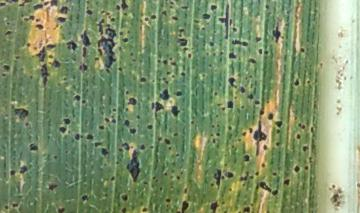tarspot: (95, 17, 118, 75), (123, 149, 144, 184), (252, 117, 267, 158), (218, 1, 231, 42), (11, 106, 31, 120), (271, 21, 282, 44), (212, 167, 223, 190), (39, 63, 49, 87), (79, 27, 90, 48), (177, 198, 192, 213), (259, 179, 272, 194), (230, 38, 250, 47), (158, 87, 170, 102), (170, 103, 182, 117), (37, 45, 46, 63), (174, 36, 190, 46), (127, 95, 139, 108), (65, 40, 78, 52), (208, 199, 219, 213), (227, 76, 237, 90), (17, 1, 32, 10), (225, 98, 237, 109), (77, 62, 88, 74), (292, 76, 302, 89), (22, 14, 36, 23), (119, 192, 130, 203), (46, 181, 57, 192), (292, 162, 302, 174), (227, 51, 239, 61), (119, 1, 131, 11), (79, 191, 88, 204), (155, 100, 162, 116), (223, 170, 234, 180), (99, 147, 110, 157), (28, 143, 39, 153), (56, 15, 67, 25), (282, 178, 292, 188), (73, 132, 83, 142), (62, 116, 72, 126), (18, 165, 28, 175), (242, 153, 251, 164), (85, 6, 94, 17), (120, 143, 132, 151), (1, 63, 13, 71), (32, 3, 44, 11), (47, 1, 60, 8), (241, 204, 251, 213), (294, 131, 302, 142), (246, 57, 257, 65), (274, 119, 282, 130), (173, 90, 184, 98), (2, 29, 13, 37), (80, 46, 87, 58), (254, 35, 263, 44), (231, 25, 240, 34), (128, 127, 137, 136), (300, 143, 308, 153), (139, 205, 149, 213), (60, 5, 68, 15), (52, 58, 60, 68), (46, 42, 56, 50), (35, 23, 45, 31), (201, 12, 212, 19), (118, 206, 129, 213), (55, 206, 66, 213), (210, 4, 218, 13), (238, 86, 247, 94), (266, 112, 274, 121), (139, 77, 148, 85), (145, 123, 154, 131), (97, 123, 105, 132), (108, 175, 117, 183), (171, 14, 179, 23), (257, 47, 264, 57), (123, 119, 133, 126), (9, 168, 16, 178), (149, 12, 156, 22), (13, 54, 23, 61), (179, 5, 190, 11), (271, 189, 279, 197), (58, 126, 66, 134), (73, 94, 81, 102), (2, 203, 10, 211), (110, 106, 118, 114), (179, 70, 187, 78), (199, 25, 207, 33), (254, 99, 261, 108), (85, 133, 94, 140), (23, 120, 30, 129), (108, 16, 117, 23), (103, 116, 110, 125), (120, 36, 129, 43), (160, 8, 167, 17), (211, 90, 220, 97), (309, 125, 315, 135), (301, 122, 307, 132), (262, 143, 268, 153), (10, 201, 20, 207), (238, 176, 248, 182), (152, 174, 158, 184), (298, 46, 305, 54), (164, 197, 172, 204), (178, 27, 186, 34), (271, 170, 278, 178), (226, 123, 233, 131), (169, 60, 177, 67), (139, 143, 146, 151), (172, 151, 180, 158), (130, 57, 138, 64), (128, 51, 136, 58), (192, 17, 199, 25), (186, 51, 192, 60), (247, 126, 253, 135), (263, 49, 270, 56), (247, 93, 254, 100), (208, 41, 215, 48), (1, 72, 8, 79), (214, 112, 221, 119), (254, 183, 261, 190), (304, 164, 310, 172), (274, 140, 280, 148), (52, 155, 60, 161), (1, 1, 7, 9), (164, 70, 172, 76), (210, 137, 216, 145), (241, 130, 247, 138), (148, 143, 154, 151), (199, 72, 207, 78), (117, 66, 123, 74), (28, 73, 34, 81), (264, 98, 272, 104), (164, 136, 169, 145), (150, 101, 155, 110), (221, 208, 230, 213), (297, 121, 301, 132), (263, 3, 269, 10), (111, 118, 117, 125), (135, 113, 141, 120), (143, 16, 149, 23), (260, 161, 266, 168), (188, 119, 195, 125), (244, 170, 250, 177), (156, 135, 162, 142), (166, 145, 173, 151), (162, 170, 169, 176), (182, 187, 188, 194), (215, 122, 221, 129), (227, 186, 233, 193), (308, 155, 313, 163), (173, 130, 178, 138), (26, 41, 31, 49), (8, 1, 18, 5), (176, 174, 181, 182), (162, 58, 167, 66), (163, 80, 171, 85), (210, 122, 215, 130), (305, 79, 311, 85), (275, 128, 281, 134), (93, 56, 99, 62), (34, 17, 40, 23), (167, 55, 173, 61), (249, 174, 255, 180), (158, 186, 164, 192), (258, 110, 265, 115), (80, 99, 87, 104), (207, 61, 212, 68), (156, 58, 161, 65), (216, 101, 221, 108), (280, 35, 285, 41), (115, 4, 120, 10), (182, 46, 188, 51), (255, 170, 260, 176), (219, 49, 224, 55), (205, 51, 210, 57), (220, 107, 226, 112), (210, 181, 214, 188), (221, 199, 225, 206), (215, 131, 220, 136), (212, 51, 216, 57)
